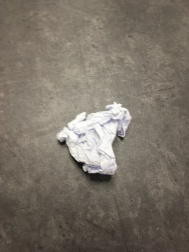paper_white: (47, 92, 153, 185)
